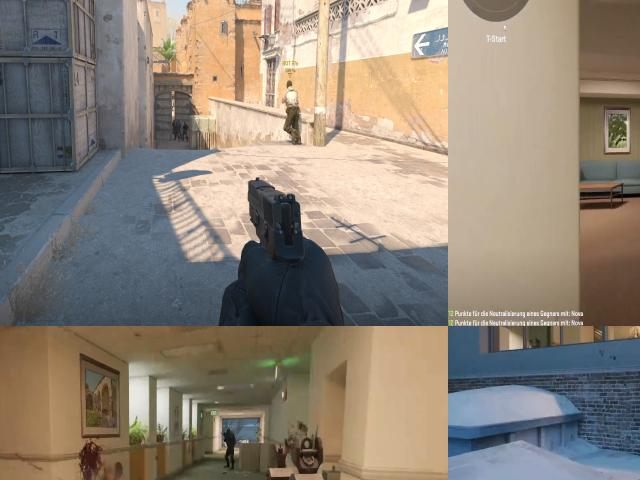CT: (224, 426, 238, 451), (182, 121, 188, 141), (171, 119, 176, 138), (175, 120, 179, 141), (178, 120, 182, 139)
CT-Head: (224, 427, 233, 437), (176, 120, 178, 123), (178, 120, 180, 123), (184, 122, 186, 124), (173, 120, 175, 122)
Dead: (86, 461, 130, 480)
T: (284, 82, 300, 145), (627, 326, 639, 341)
T-Head: (286, 80, 294, 92), (630, 326, 640, 329)
